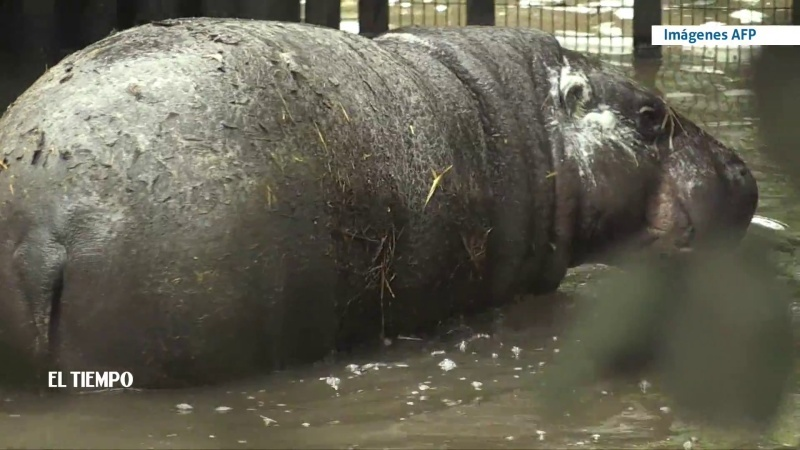hipopotamo: (2, 2, 760, 420)
